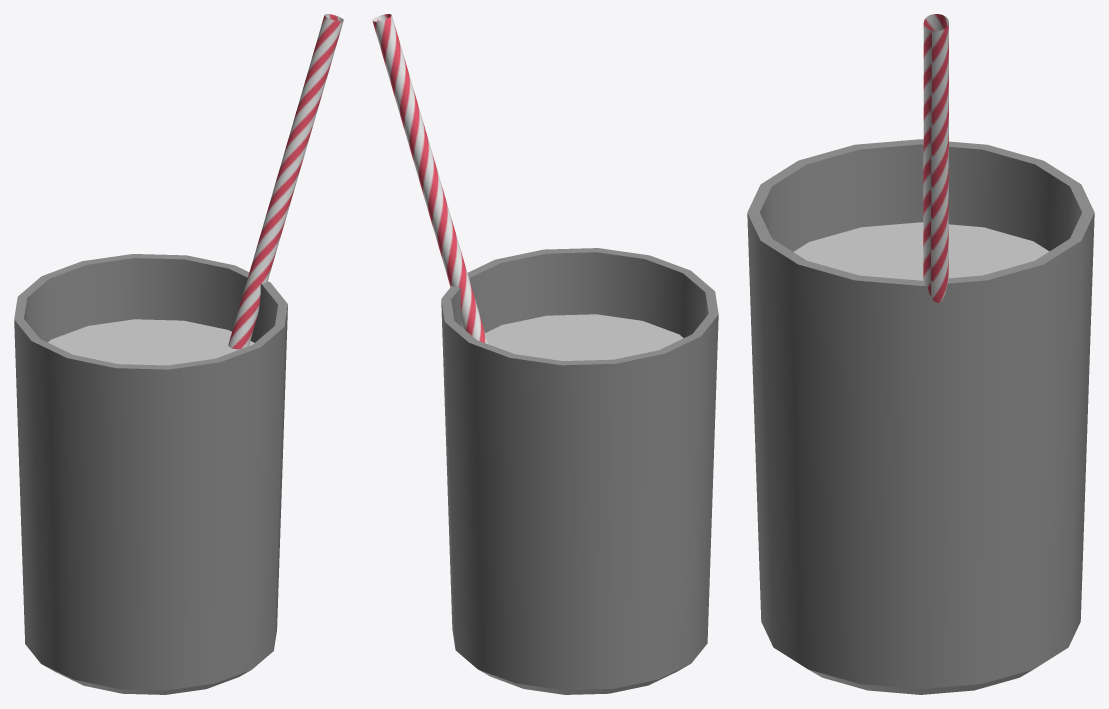
Rendered from Milk.FBX.
3 renders of one model, left to right at view 1: azimuth 30°, elevation 25°; view 2: azimuth 150°, elevation 25°; view 3: azimuth 270°, elevation 25°, orthographic. The views are drawn at different scales.
Parts seen in each view (by area): view 1: glass, straw, milk; view 2: glass, straw, milk; view 3: glass, milk, straw.
Boxes of the visible parts, x1=… form: glass: x1=14, y1=254, x2=287, y2=694; straw: x1=228, y1=14, x2=343, y2=349; milk: x1=48, y1=319, x2=254, y2=365; glass: x1=441, y1=248, x2=718, y2=694; straw: x1=372, y1=14, x2=488, y2=343; milk: x1=485, y1=314, x2=683, y2=360; glass: x1=747, y1=139, x2=1094, y2=694; milk: x1=793, y1=222, x2=1049, y2=280; straw: x1=923, y1=14, x2=948, y2=302.
Size of the model in its own units: 10.43 by 18.33 by 7.87.
